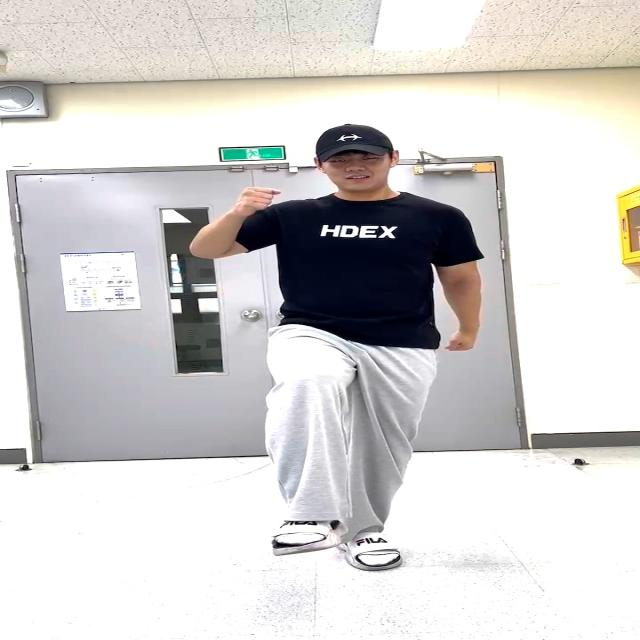leg: (266, 333, 352, 553)
